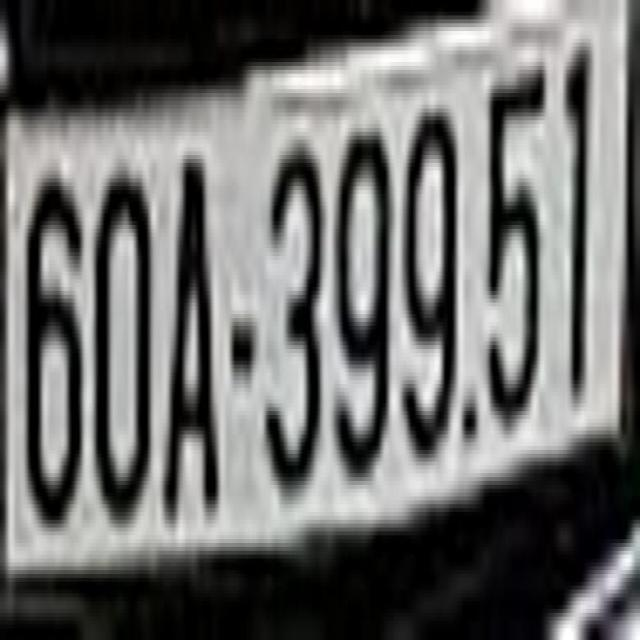0: (94, 163, 153, 524)
1: (560, 35, 592, 408)
3: (265, 140, 320, 484)
5: (485, 54, 546, 430)
6: (23, 178, 84, 536)
9: (332, 117, 386, 470), (402, 108, 455, 450)
A: (162, 151, 220, 512)
